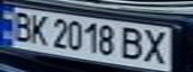0: (66, 18, 84, 52)
1: (81, 19, 100, 54)
2: (48, 16, 69, 50)
8: (96, 21, 121, 57)
B: (118, 25, 148, 62), (6, 9, 36, 43)
K: (24, 11, 51, 46)
X: (139, 27, 175, 65)
